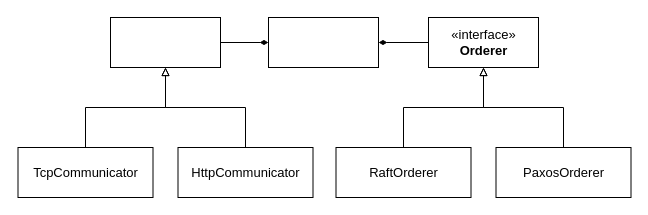
Image size: 648x215. Some labels were removed from this diagram. The shapes that lost their labels are listed below. From the top down, each one's box as (x1, y1, x2, y2) in pixels, then its label:
(110, 16, 220, 68): «interface» Communicator
(268, 16, 378, 68): Proxy
